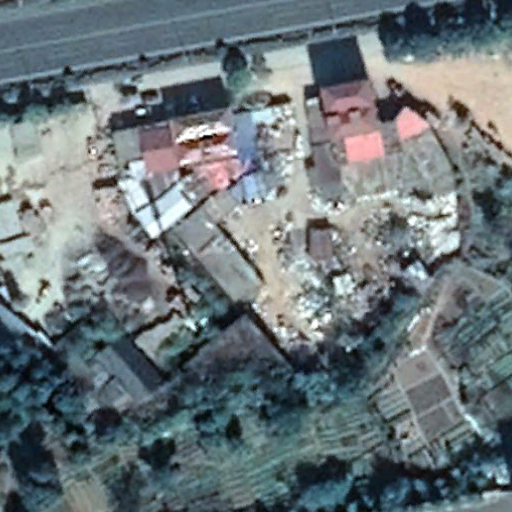msw: (208, 106, 463, 362)
